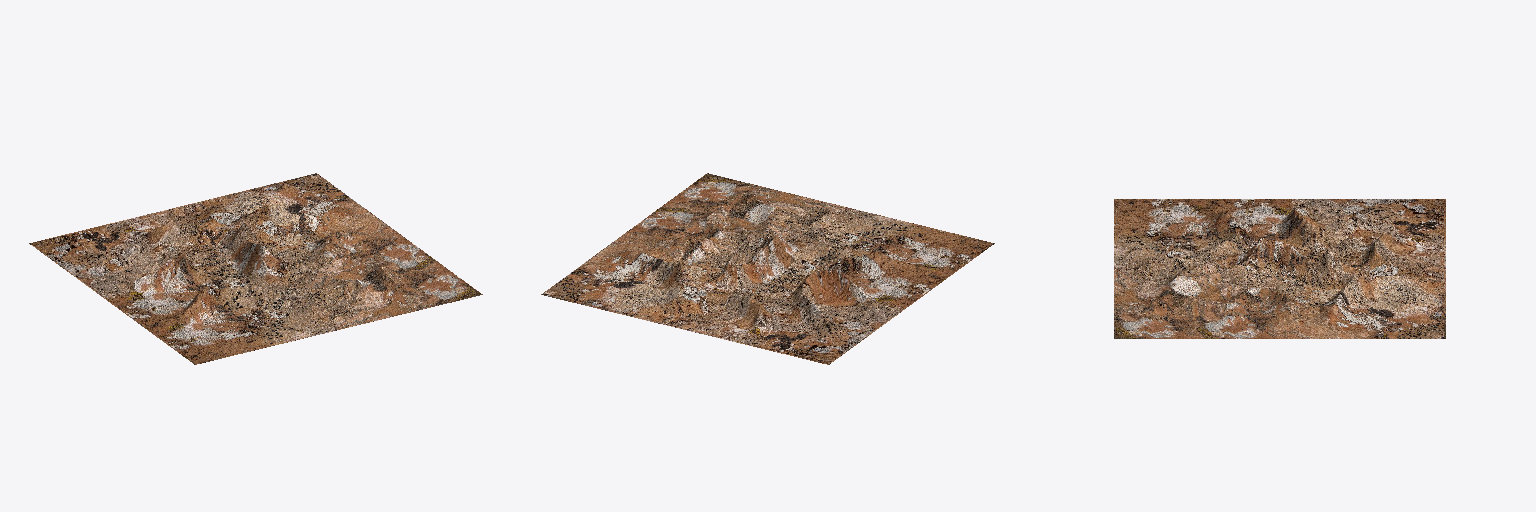
The picture shows the model from 3 angles: view 1: azimuth 30°, elevation 25°; view 2: azimuth 150°, elevation 25°; view 3: azimuth 270°, elevation 25°; orthographic projection.
Visible parts, largest first — view 1: Landscape.001; view 2: Landscape.001; view 3: Landscape.001.
Boxes of the visible parts, box(x1,y1,x2,y2) form: Landscape.001: box(29, 173, 482, 364); Landscape.001: box(541, 173, 994, 364); Landscape.001: box(1114, 199, 1445, 338).
Size of the model in its own units: 200 by 23.31 by 200.
Materials: 2 (1 with a texture image).